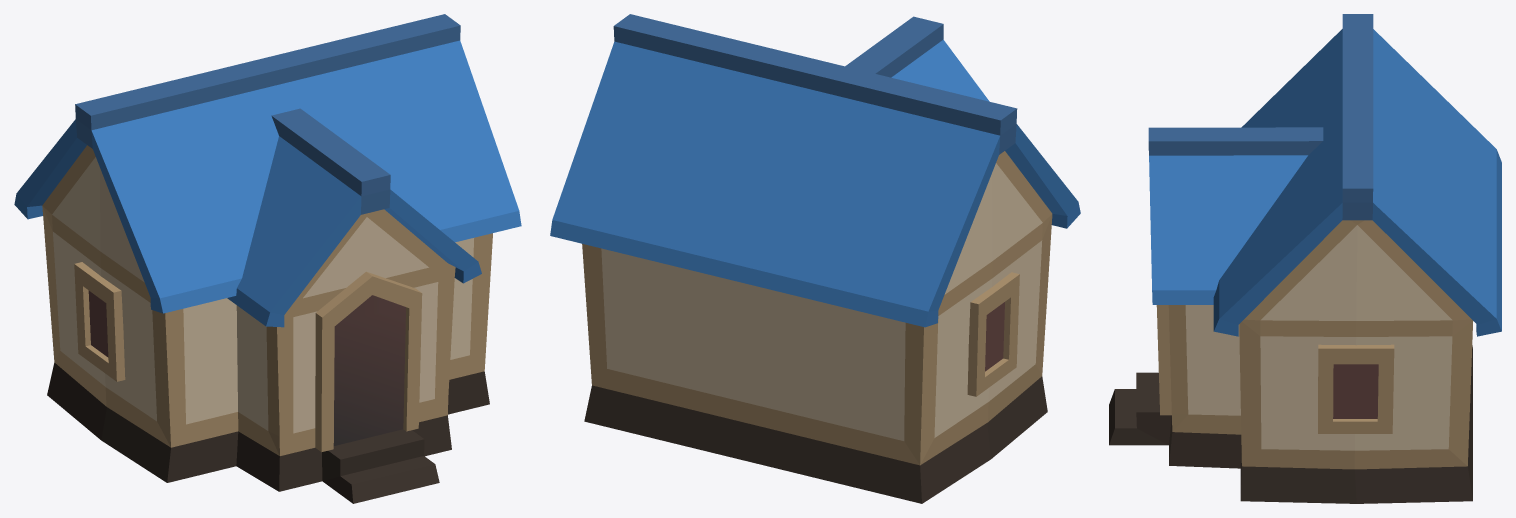
Rendered from House_Tiny.fbx.
3 renders of one model, left to right at view 1: azimuth 30°, elevation 25°; view 2: azimuth 150°, elevation 25°; view 3: azimuth 270°, elevation 25°, orthographic. The views are drawn at different scales.
Parts seen in each view (by area): view 1: SM_Bld_Knights_House_01; view 2: SM_Bld_Knights_House_01; view 3: SM_Bld_Knights_House_01.
Part boxes in pixels (x1,y1,x2,y2): SM_Bld_Knights_House_01: [14, 14, 521, 503]; SM_Bld_Knights_House_01: [550, 14, 1080, 503]; SM_Bld_Knights_House_01: [1109, 14, 1501, 503].
Bounding box in the file's own units: 104 × 89.47 × 98.41.
